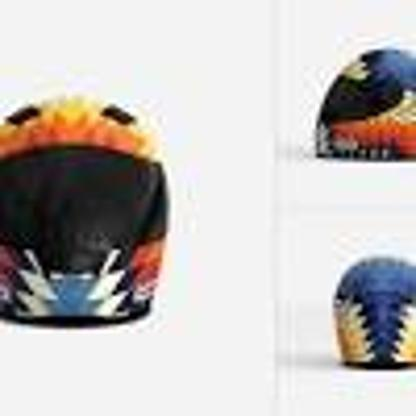not trash: (0, 86, 171, 328), (313, 47, 416, 166), (331, 255, 416, 367)
